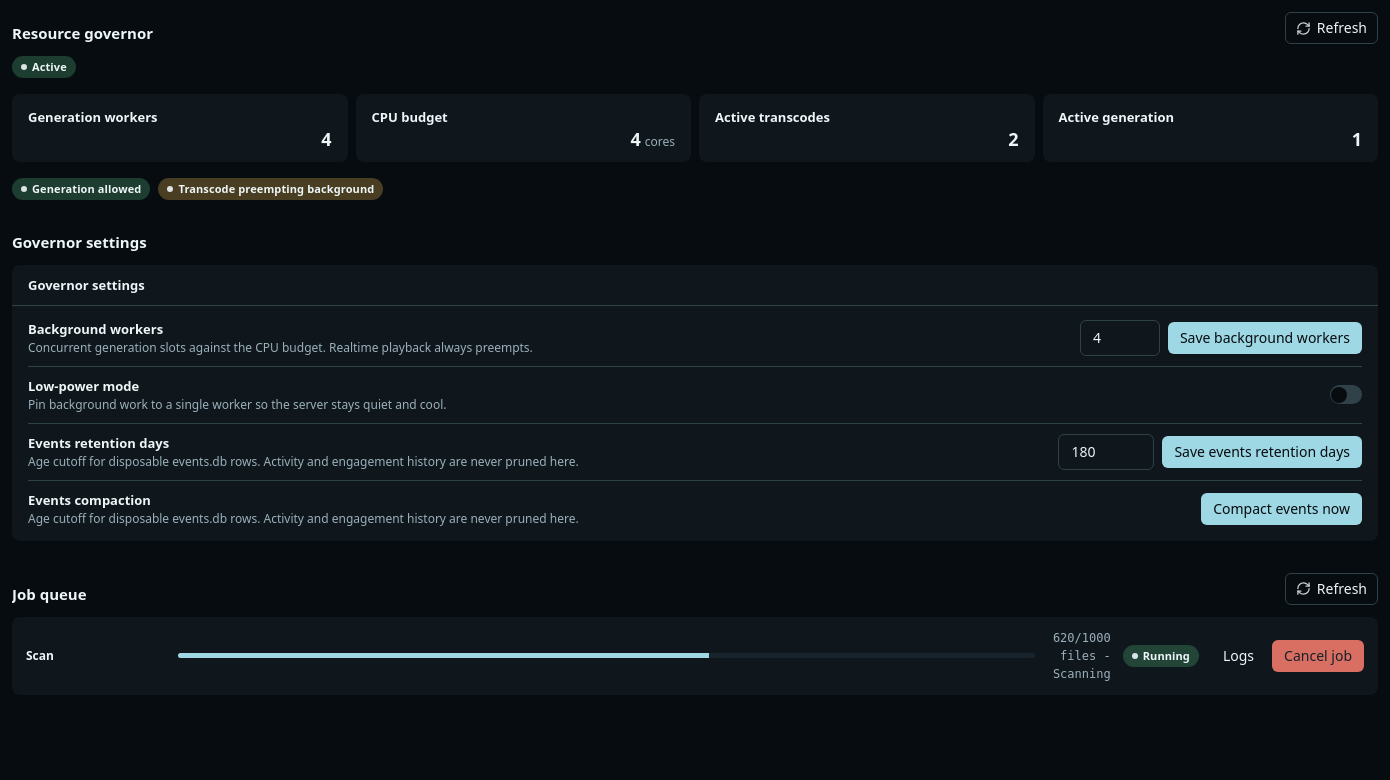
Test: OperationsControls › opens the durable job log on demand
Check: the text "Scan" is shown, box 26,647 -> 54,664
Click the button "Logs".
click(1239, 656)  # box 1211,640 -> 1266,672
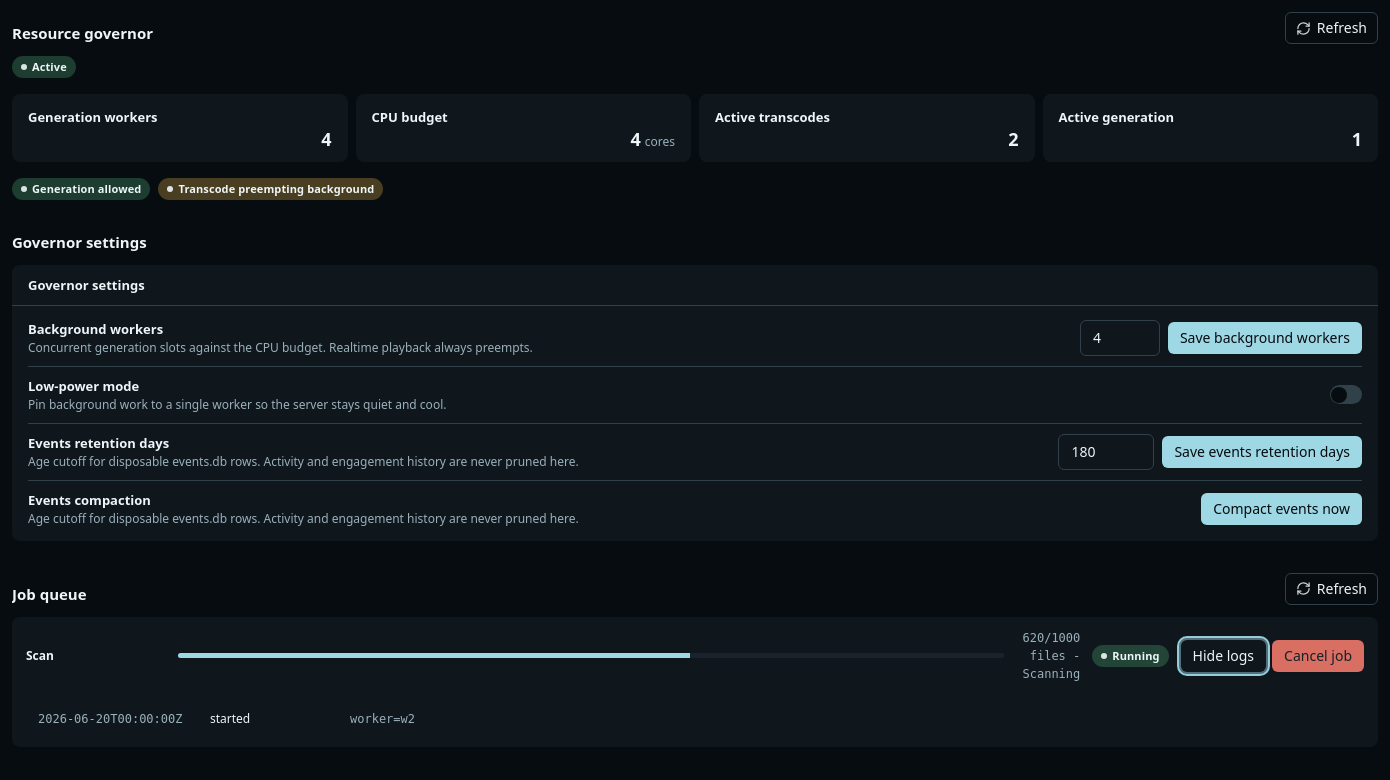
Check: the text "started" is shown, box 210,710 -> 250,727
Check: the text "worker=w2" is shown, box 350,712 -> 415,726
